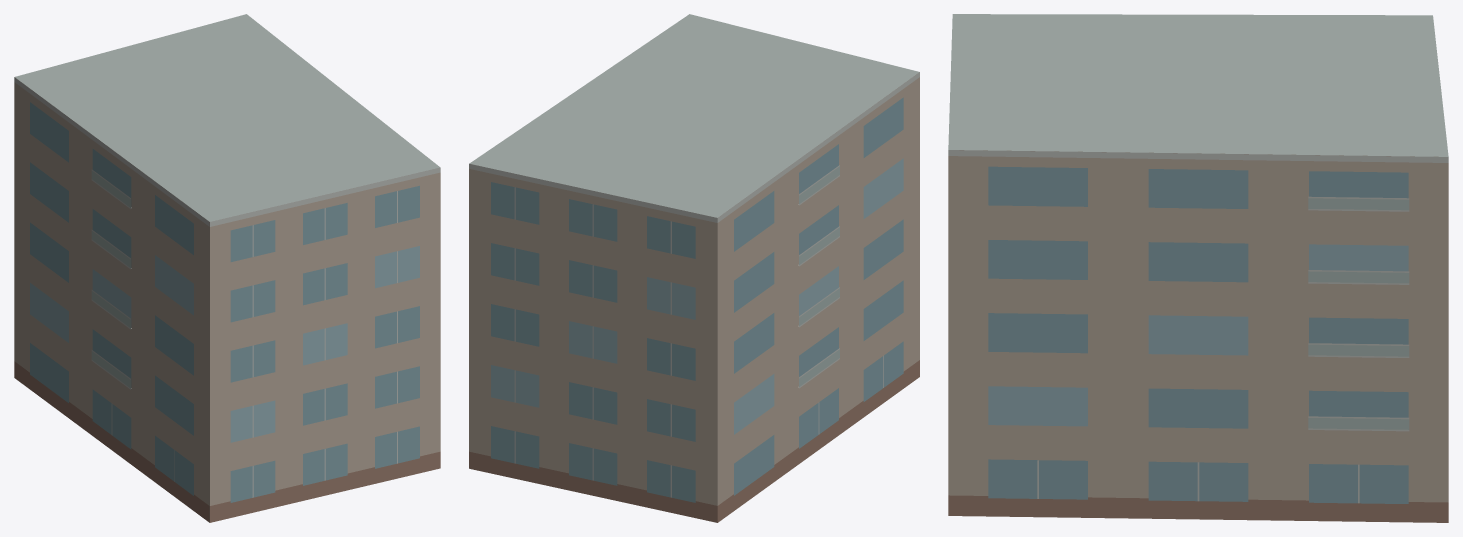
The model's file is survey-upis-32767995.glb.
3 renders of one model, left to right at view 1: azimuth 30°, elevation 25°; view 2: azimuth 150°, elevation 25°; view 3: azimuth 270°, elevation 25°, orthographic. The views are drawn at different scales.
Visible parts, largest first — view 1: survey-upis-32767995.tmp; view 2: survey-upis-32767995.tmp; view 3: survey-upis-32767995.tmp.
Part boxes in pixels (x1=…): survey-upis-32767995.tmp: x1=14, y1=14, x2=440, y2=522; survey-upis-32767995.tmp: x1=469, y1=14, x2=919, y2=522; survey-upis-32767995.tmp: x1=948, y1=14, x2=1448, y2=522.
Size of the model in its own units: 12.24 by 14.6 by 18.1.
